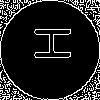H: (25, 25, 71, 61)
